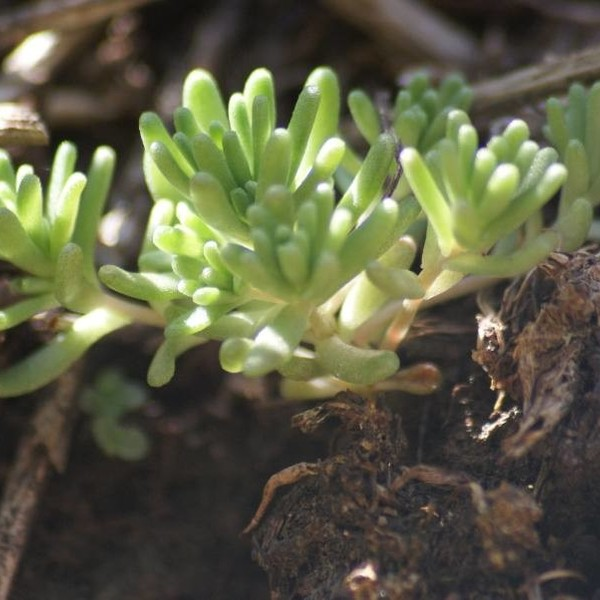obstacle: (14, 51, 576, 421)
